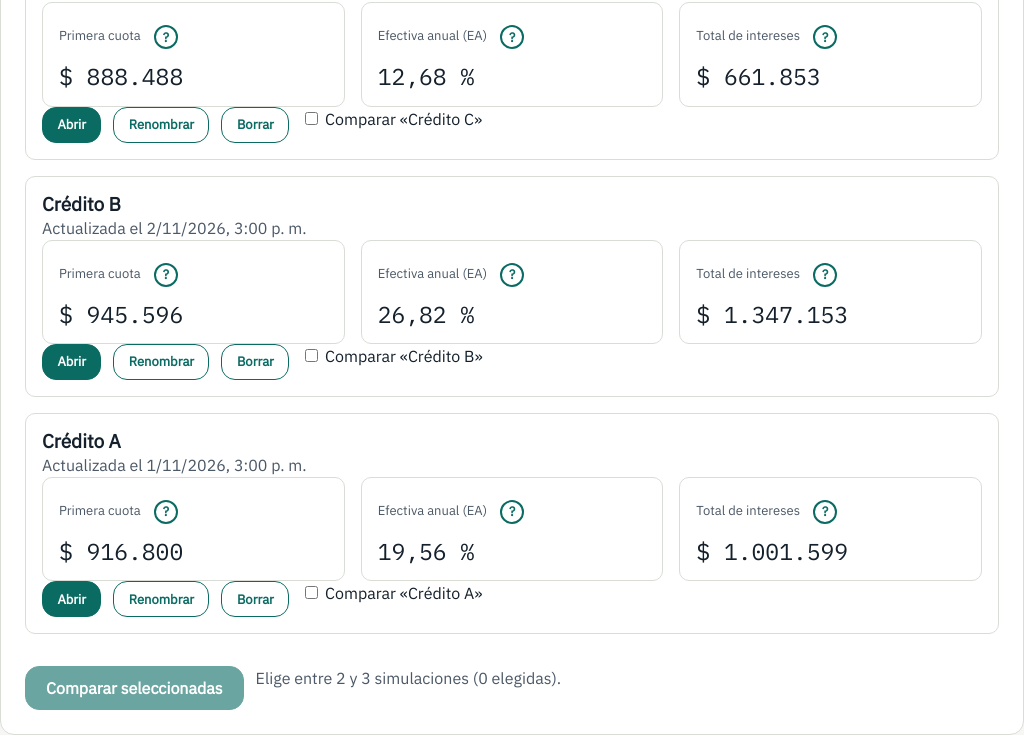
Test: HU-23: comparador › criterio HU-23: con 3 simulaciones muestra cuota, EA, intereses y ρ en columnas, con el menor costo resaltado
(page scrolled)
Expected: the heading "Crédito A" is shown, x1=42 y1=429 x2=121 y2=453
Click the checkbox labelled "Comparar «Crédito A»". click: (312, 593)
box: x1=305 y1=586 x2=318 y2=600
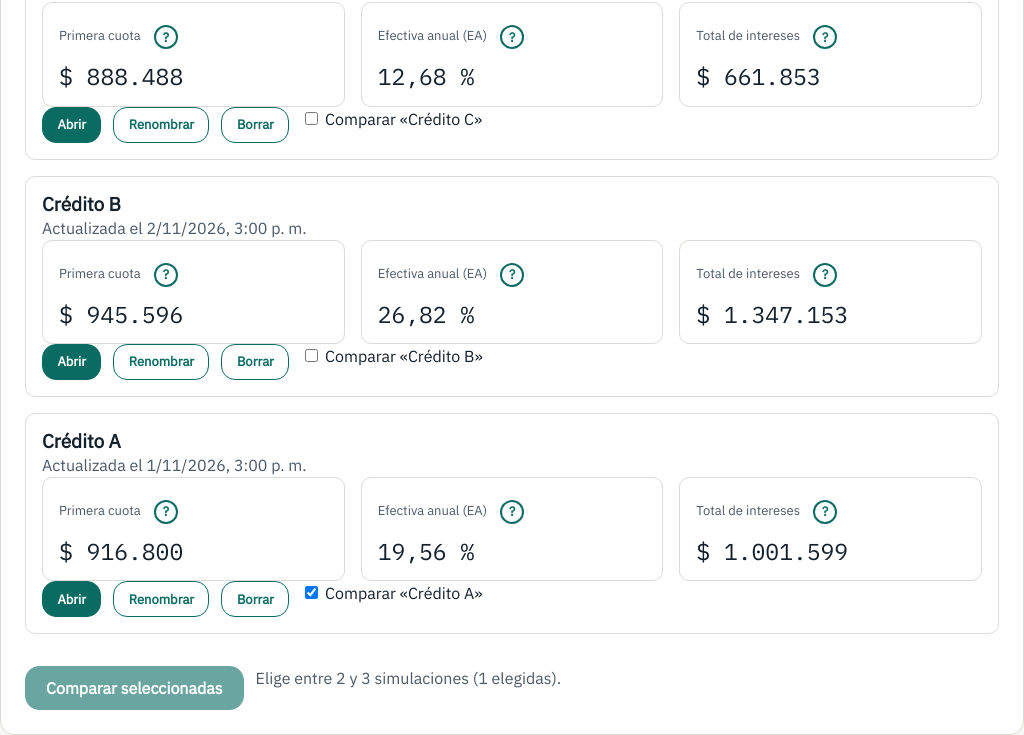
Click the checkbox labelled "Comparar «Crédito B»". click: (312, 356)
box: x1=305 y1=349 x2=318 y2=362
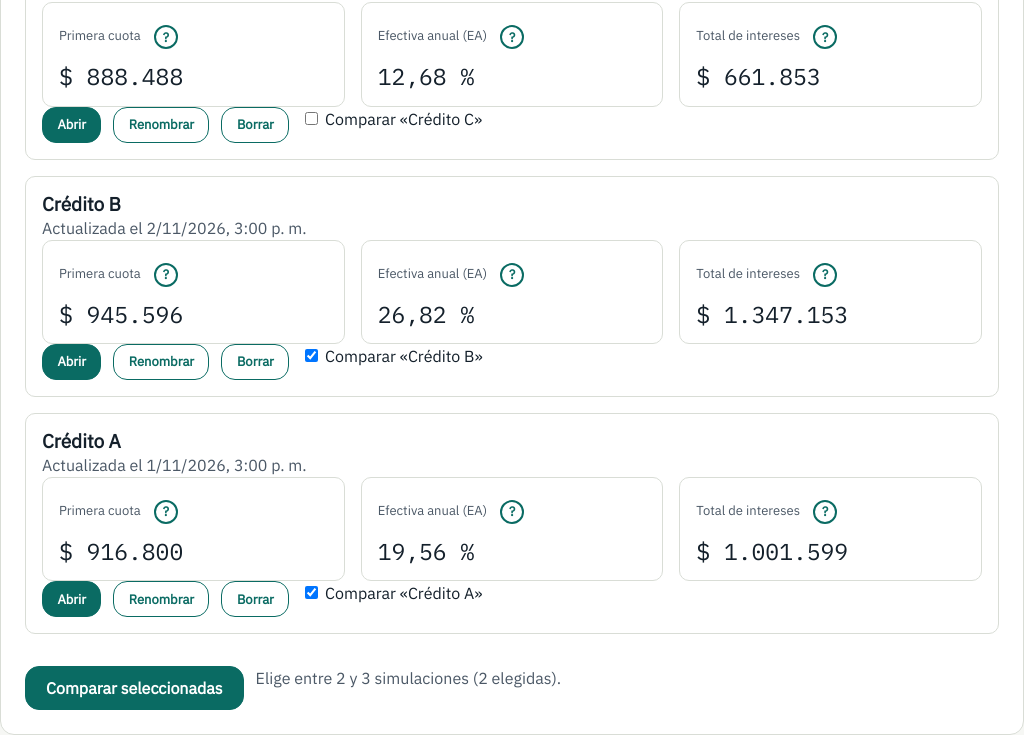
Click the checkbox labelled "Comparar «Crédito C»". click: (312, 118)
box: x1=305 y1=112 x2=318 y2=125
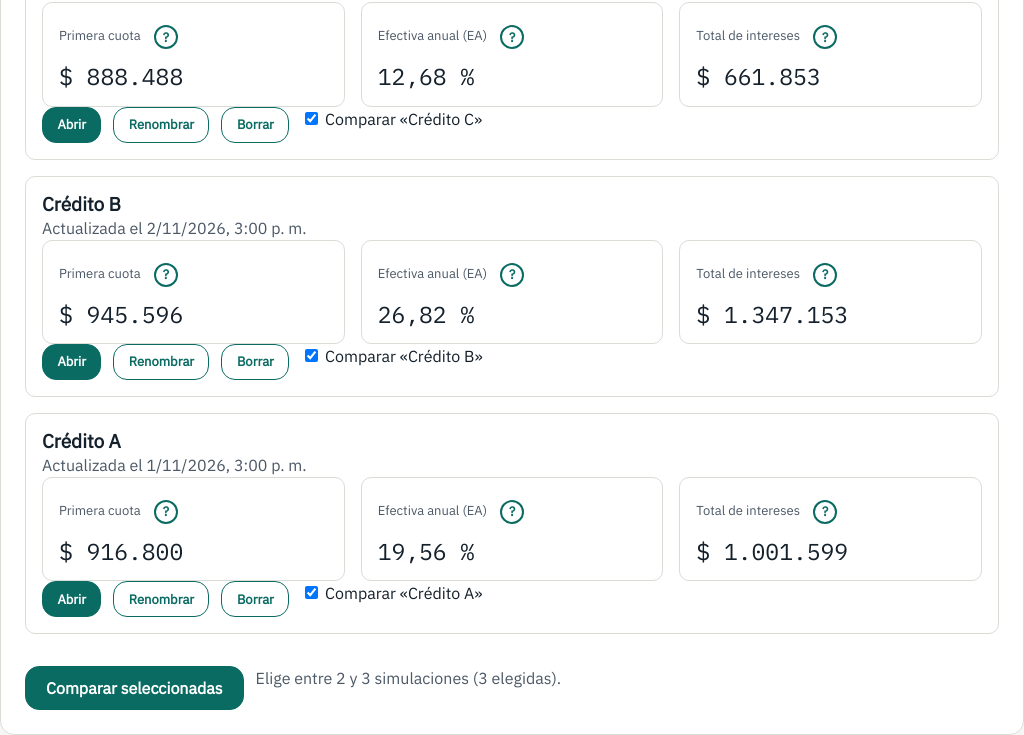
Click the button "Comparar seleccionadas". click: (134, 688)
box: x1=25 y1=666 x2=244 y2=710
(page scrolled)
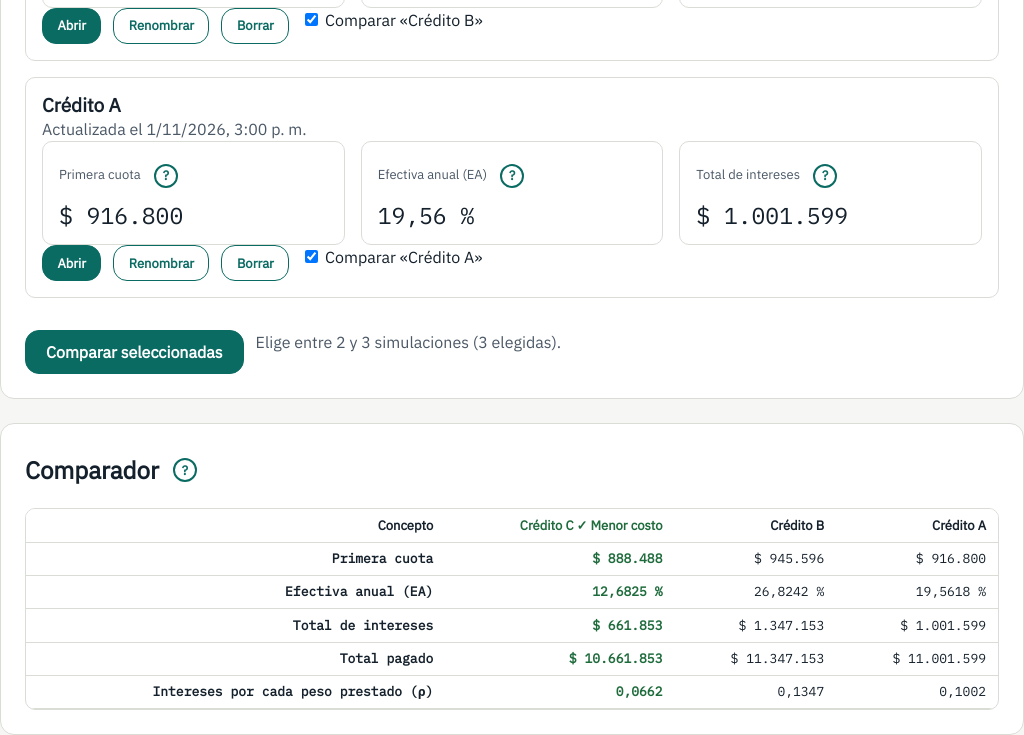
Expected: the column headings read "Concepto", "Crédito C ✓ Menor costo", "Crédito B", "Crédito A", in this order, x1=26 y1=510 x2=445 y2=542; x1=445 y1=510 x2=674 y2=542; x1=674 y1=510 x2=836 y2=542; x1=836 y1=510 x2=998 y2=542
Expected: the column heading "Primera cuota" is shown, x1=26 y1=543 x2=445 y2=576
Expected: the column heading "Efectiva anual (EA)" is shown, x1=26 y1=576 x2=445 y2=609
